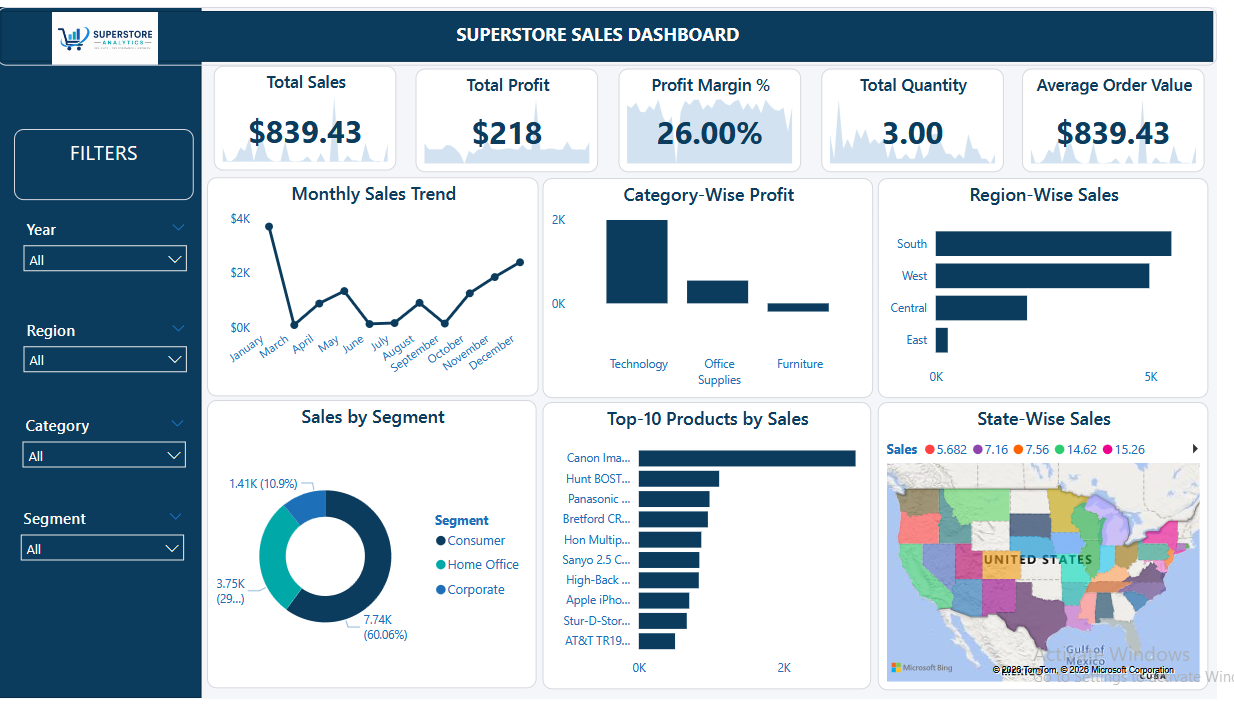

The dashboard page shown, as its layout file describes it:
{"tool":"powerbi","page":{"name":"Page 1","canvas":[1280,720],"ordinal":0},"visuals":[{"type":"shape","box":[10.2,0,212.9,719],"z":0},{"type":"shape","box":[10.2,0,1269.8,61.2],"z":1000},{"type":"textbox","box":[334,10.2,603,44.6],"z":2000},{"type":"image","box":[10.2,5.1,225.7,54.8],"z":3000},{"type":"kpi","title":"Total Sales ","fields":{"Indicator":["Superstore.Total Sales"],"TrendLine":["Superstore.Order Date"]},"box":[235.9,61.2,190,108.4],"z":4000},{"type":"kpi","title":"Total Profit ","fields":{"Indicator":["Superstore.Total Profit"],"TrendLine":["Superstore.Order Date"]},"box":[446.2,63.7,190,108.4],"z":5000},{"type":"kpi","title":"Profit Margin % ","fields":{"Indicator":["Superstore.Profit Margin %"],"TrendLine":["Superstore.Order Date"]},"box":[656.6,63.7,190,108.4],"z":6000},{"type":"kpi","title":"Total Quantity ","fields":{"Indicator":["Superstore.Total Quantity"],"TrendLine":["Superstore.Order Date"]},"box":[868.2,63.7,190,108.4],"z":7000},{"type":"kpi","title":"Average Order Value","fields":{"Indicator":["Superstore.Average  Order Value"],"TrendLine":["Superstore.Order Date"]},"box":[1077.3,63.7,190,108.4],"z":8000},{"type":"slicer","fields":{"Values":["Superstore.Ship Date.Variation.Date Hierarchy.Year"]},"box":[28,215.5,190,93.1],"z":9000},{"type":"slicer","fields":{"Values":["Superstore.Region"]},"box":[28,320,190,77.8],"z":10000},{"type":"slicer","fields":{"Values":["Superstore.Category"]},"box":[26.8,419.4,190,86.7],"z":11000},{"type":"slicer","fields":{"Values":["Superstore.Segment"]},"box":[25.5,516.3,190,81.6],"z":12000},{"type":"textbox","box":[28,127.5,187.4,73.9],"z":13000},{"type":"lineChart","title":"Monthly Sales Trend","fields":{"Category":["Superstore.Order Date.Variation.Date Hierarchy.Month"],"Y":["Superstore.Total Sales"]},"box":[229.5,177.2,344.2,228.2],"z":14000},{"type":"barChart","title":"Region-Wise Sales","fields":{"Category":["Superstore.Region"],"Y":["Sum(Superstore.Sales)"]},"box":[926.9,178.5,344.2,228.2],"z":15000},{"type":"columnChart","title":"Category-Wise Profit","fields":{"Category":["Superstore.Category"],"Y":["Sum(Superstore.Profit)"]},"box":[577.5,178.5,344.2,228.2],"z":16000},{"type":"donutChart","title":"Sales by Segment","fields":{"Category":["Superstore.Segment"],"Y":["Sum(Superstore.Sales)"]},"box":[229.5,409.2,342.9,299.6],"z":17000},{"type":"clusteredBarChart","title":"Top-10 Products by Sales","fields":{"Category":["Superstore.Product Name"],"Y":["Sum(Superstore.Sales)"]},"box":[577.5,410.5,342.9,299.6],"z":18000},{"type":"filledMap","title":"State-Wise Sales","fields":{"Category":["Superstore.State"],"Series":["Superstore.Sales"]},"box":[927,411,344,300],"z":18001}]}

Visuals, with their boxes on the page's 1280x720 design canvas (x1, y1, x2, y2). These are canvas units, not pixel positions in the 1234x721 screenshot, which may show the page scaled, cropped or inside an application window:
shape: l=10, t=0, r=223, b=719
shape: l=10, t=0, r=1280, b=61
textbox: l=334, t=10, r=937, b=55
image: l=10, t=5, r=236, b=60
"Total Sales " kpi: l=236, t=61, r=426, b=170
"Total Profit " kpi: l=446, t=64, r=636, b=172
"Profit Margin % " kpi: l=657, t=64, r=847, b=172
"Total Quantity " kpi: l=868, t=64, r=1058, b=172
"Average Order Value" kpi: l=1077, t=64, r=1267, b=172
slicer - Superstore.Ship Date.Variation.Date Hierarchy.Year: l=28, t=216, r=218, b=309
slicer - Superstore.Region: l=28, t=320, r=218, b=398
slicer - Superstore.Category: l=27, t=419, r=217, b=506
slicer - Superstore.Segment: l=26, t=516, r=216, b=598
textbox: l=28, t=128, r=215, b=201
"Monthly Sales Trend" lineChart: l=230, t=177, r=574, b=405
"Region-Wise Sales" barChart: l=927, t=178, r=1271, b=407
"Category-Wise Profit" columnChart: l=578, t=178, r=922, b=407
"Sales by Segment" donutChart: l=230, t=409, r=572, b=709
"Top-10 Products by Sales" clusteredBarChart: l=578, t=410, r=920, b=710
"State-Wise Sales" filledMap: l=927, t=411, r=1271, b=711
